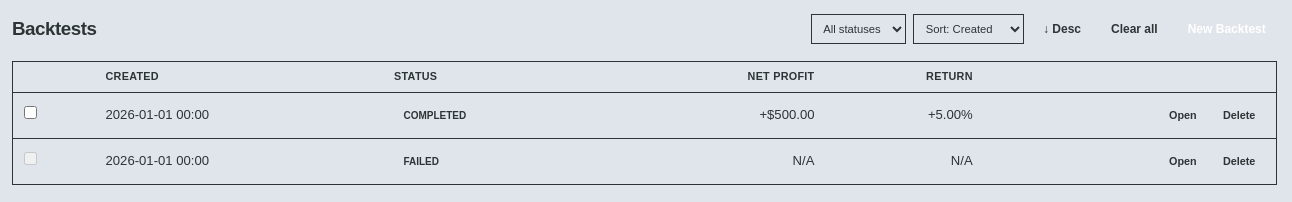
BacktestListPage › filters the list by status
This screenshot has width=1292, height=202.
Expected: the table with test id "runs-table" is shown, [13,62,1276,184]
Expected: the number of rows with test id "run-row" is 2, [13,93,1276,139]; [13,139,1276,184]
Filter to Failed → only the failed run remains.
Select "Failed" in the dropdown named "Filter by status" at (858, 29), box [811,14,906,44]
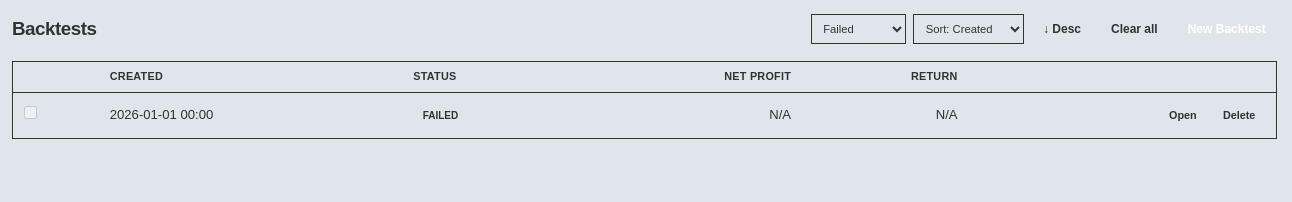
Expected: the number of rows with test id "run-row" is 1, [13,93,1276,138]
